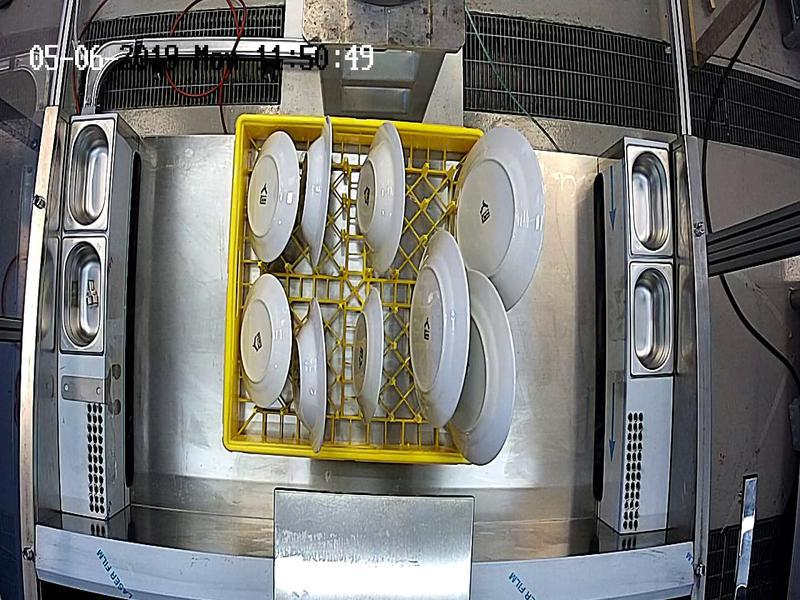Dish: (409, 226, 470, 432), (358, 120, 404, 274), (290, 300, 326, 454), (352, 284, 385, 426), (302, 120, 333, 268)
Inclined_dish: (455, 123, 544, 320), (453, 268, 516, 463), (241, 274, 291, 406), (248, 131, 298, 261)
